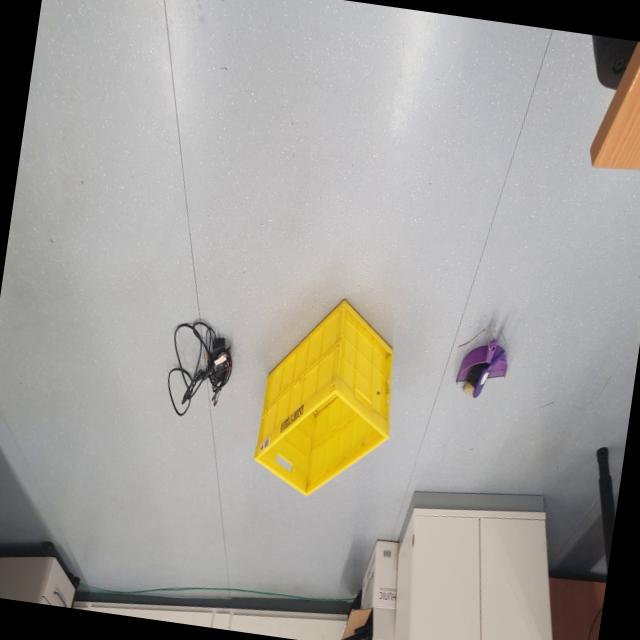box: (241, 279, 416, 517)
